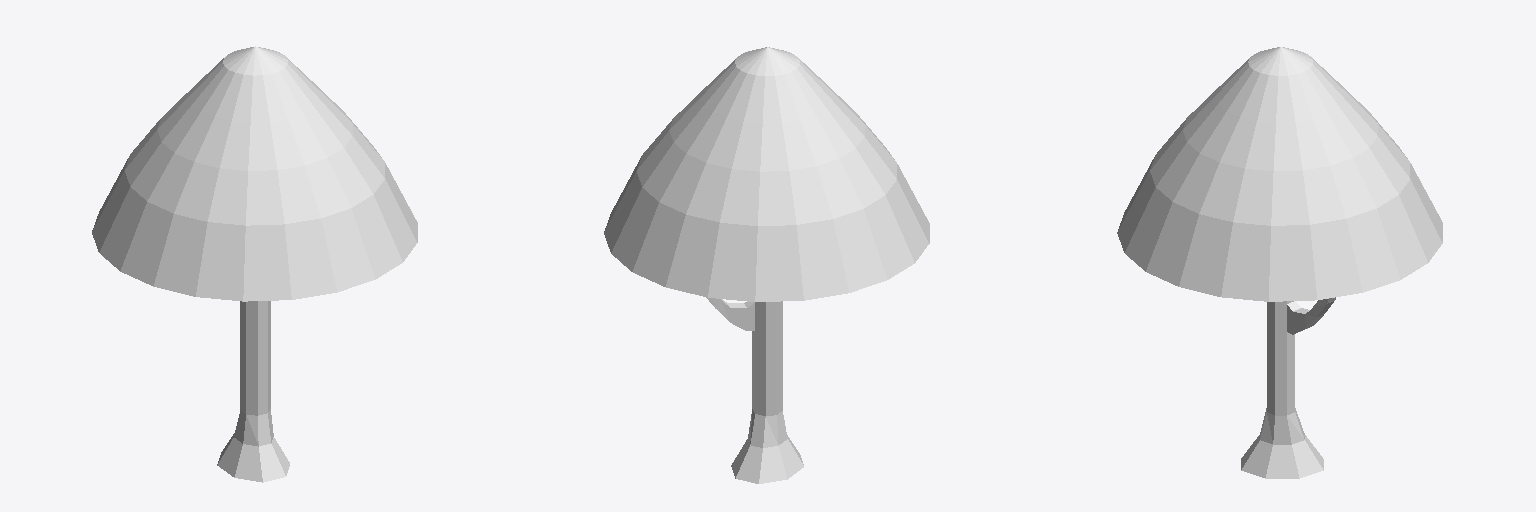
File: Tree3.obj
The picture shows the model from 3 angles: view 1: azimuth 30°, elevation 25°; view 2: azimuth 150°, elevation 25°; view 3: azimuth 270°, elevation 25°; orthographic projection.
Parts seen in each view (by area): view 1: Cone, Cylinder; view 2: Cone, Cylinder; view 3: Cone, Cylinder.
Boxes of the visible parts, box(x1,y1,x2,y2) form: Cone: box(92, 46, 417, 301); Cylinder: box(217, 301, 289, 482); Cone: box(604, 47, 929, 301); Cylinder: box(706, 297, 803, 483); Cone: box(1117, 47, 1442, 301); Cylinder: box(1241, 297, 1335, 478).
Size of the model in its own units: 1.06 by 1.5 by 1.06.